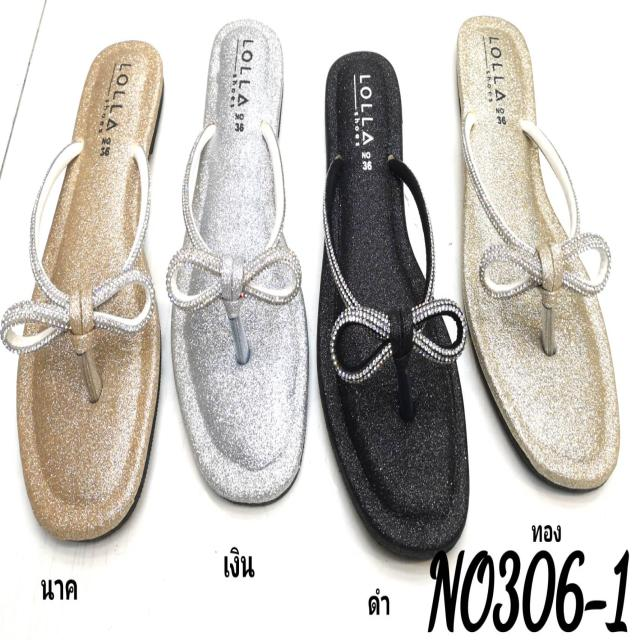black: (326, 55, 470, 557)
gold: (457, 18, 618, 489)
nak: (17, 43, 166, 538)
silver: (172, 23, 306, 509)
